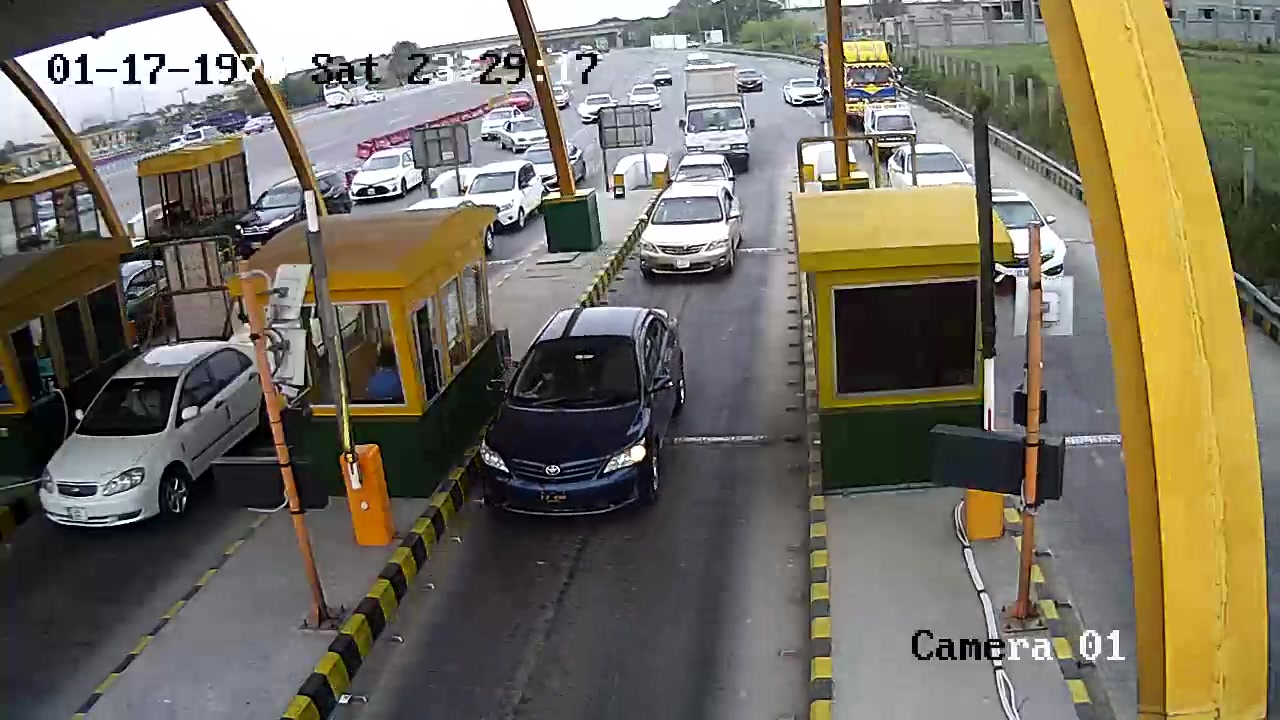F1: (482, 298, 689, 521)
